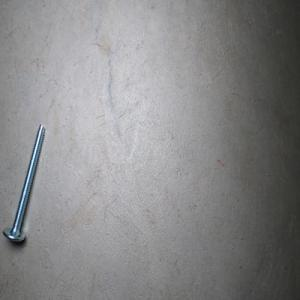Bolt: (1, 123, 45, 242)
